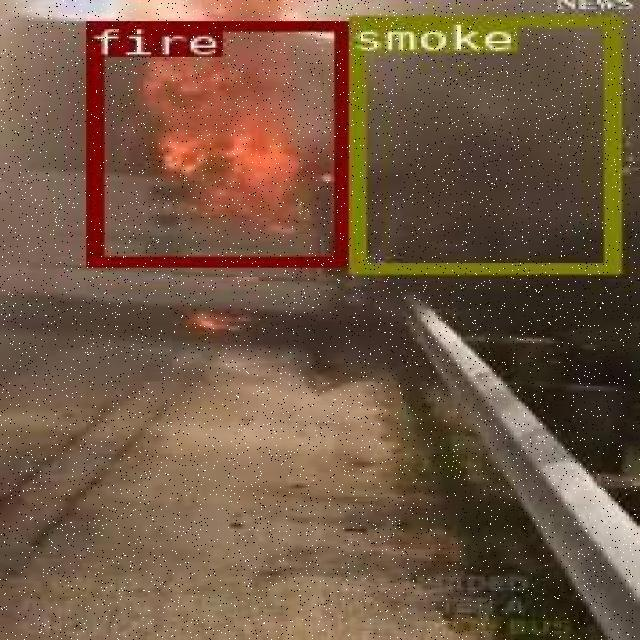Smoke: (347, 0, 615, 202)
